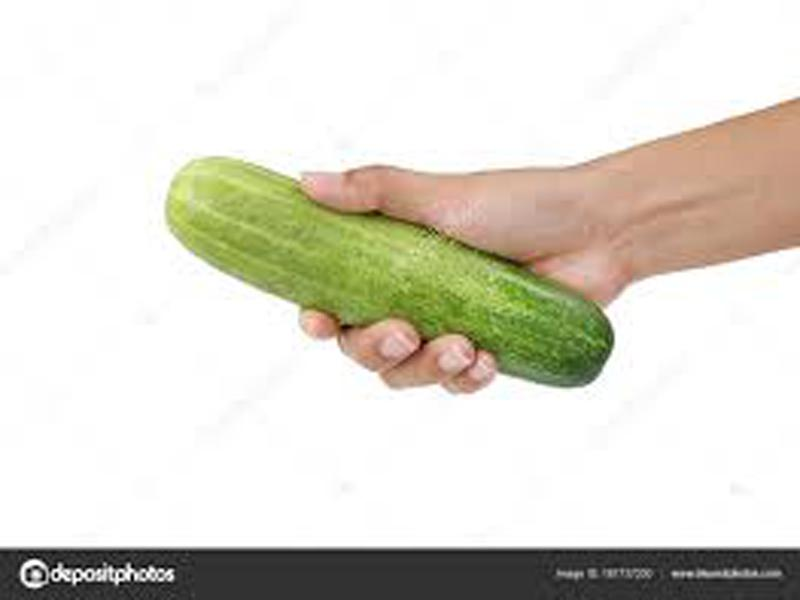Cucumber: (167, 153, 614, 384)
